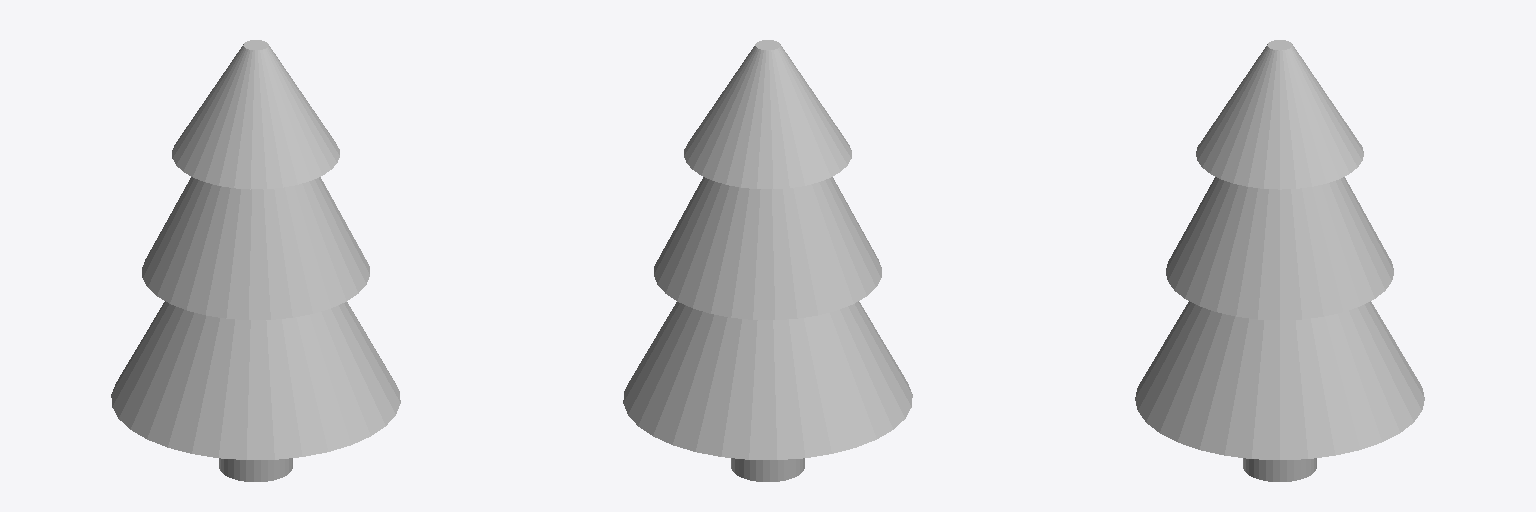
The model's file is fir1.obj.
The picture shows the model from 3 angles: view 1: azimuth 30°, elevation 25°; view 2: azimuth 150°, elevation 25°; view 3: azimuth 270°, elevation 25°; orthographic projection.
Visible parts, largest first — view 1: Cylinder.002; view 2: Cylinder.002; view 3: Cylinder.002.
Part boxes in pixels (x1,y1,x2,y2): Cylinder.002: (111, 40, 400, 481); Cylinder.002: (623, 40, 912, 481); Cylinder.002: (1135, 40, 1424, 481).
Size of the model in its own units: 1.37 by 2.2 by 1.37.